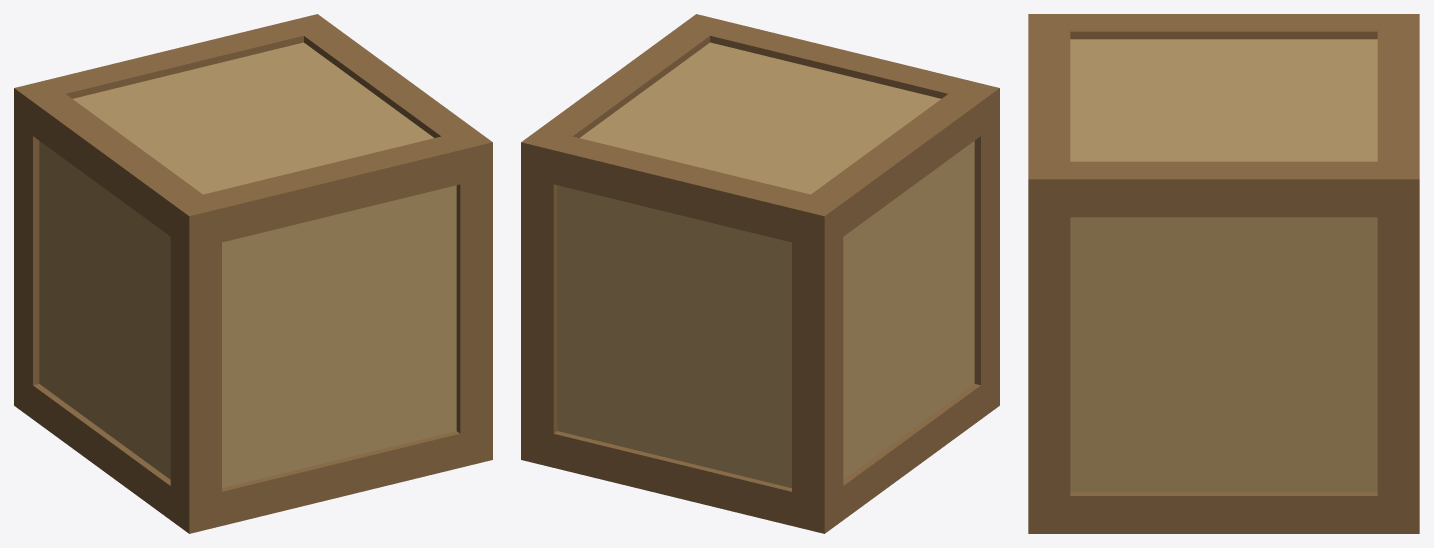
The model's file is crate_01.fbx.
The picture shows the model from 3 angles, left to right: view 1: azimuth 30°, elevation 25°; view 2: azimuth 150°, elevation 25°; view 3: azimuth 270°, elevation 25°; orthographic projection. The views are drawn at different scales.
Parts seen in each view (by area): view 1: crate_01; view 2: crate_01; view 3: crate_01.
Part boxes in pixels (<box>): crate_01: <box>14,14,492,533</box>; crate_01: <box>521,14,999,533</box>; crate_01: <box>1028,14,1419,533</box>.
Bounding box in the file's own units: 82.88 × 82.88 × 82.88.
